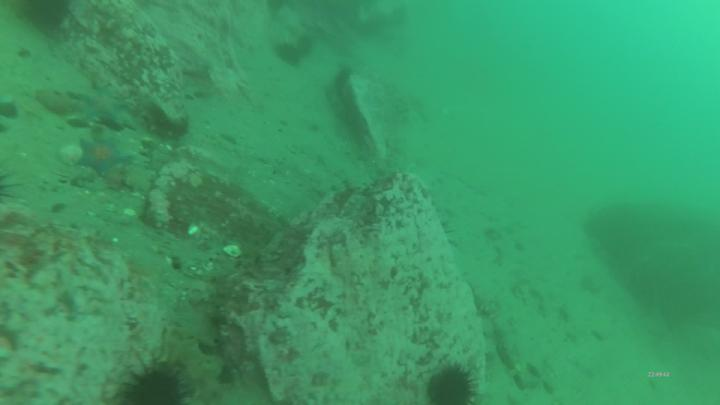echinus: (116, 355, 204, 405), (425, 361, 481, 405), (26, 1, 76, 37), (272, 38, 303, 69), (294, 32, 317, 60), (265, 1, 287, 16)
starfish: (74, 130, 138, 182)
